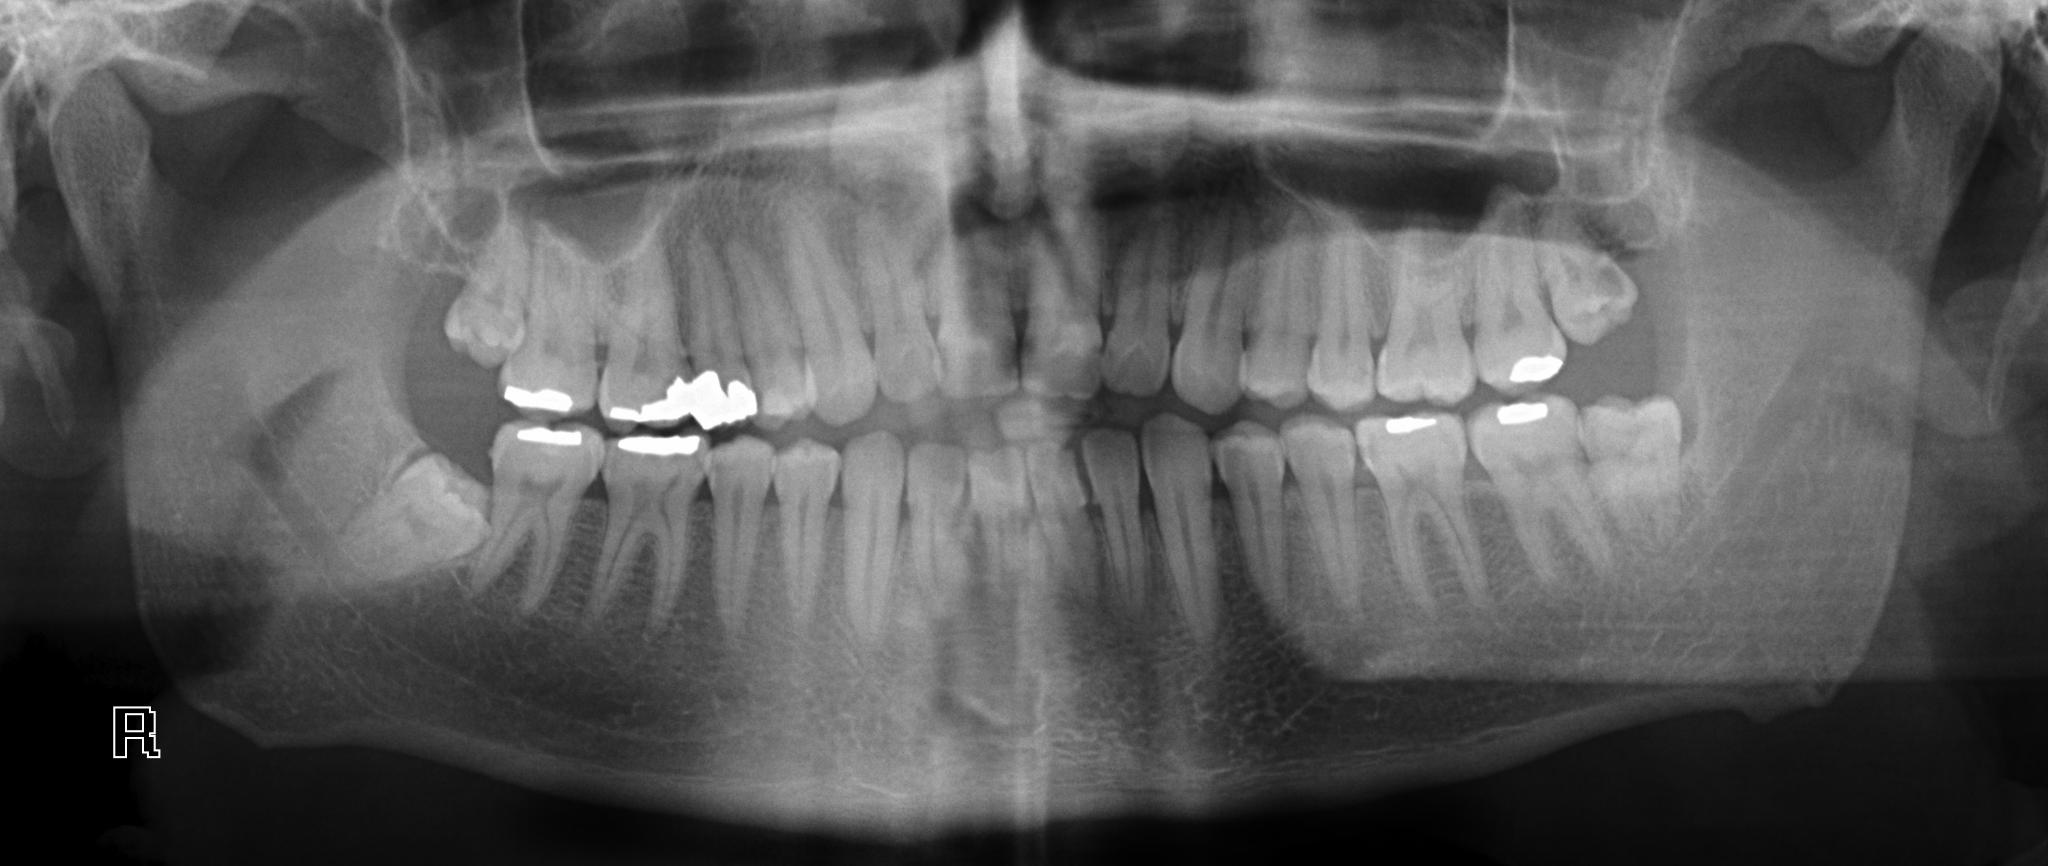Fillings: (1468, 397, 1610, 592), (468, 422, 601, 610), (598, 430, 707, 626), (500, 214, 598, 417), (1462, 208, 1570, 391), (596, 229, 690, 423), (683, 238, 759, 430)
Impacted Tooth: (340, 449, 486, 585)
Implant: (112, 705, 157, 758)
